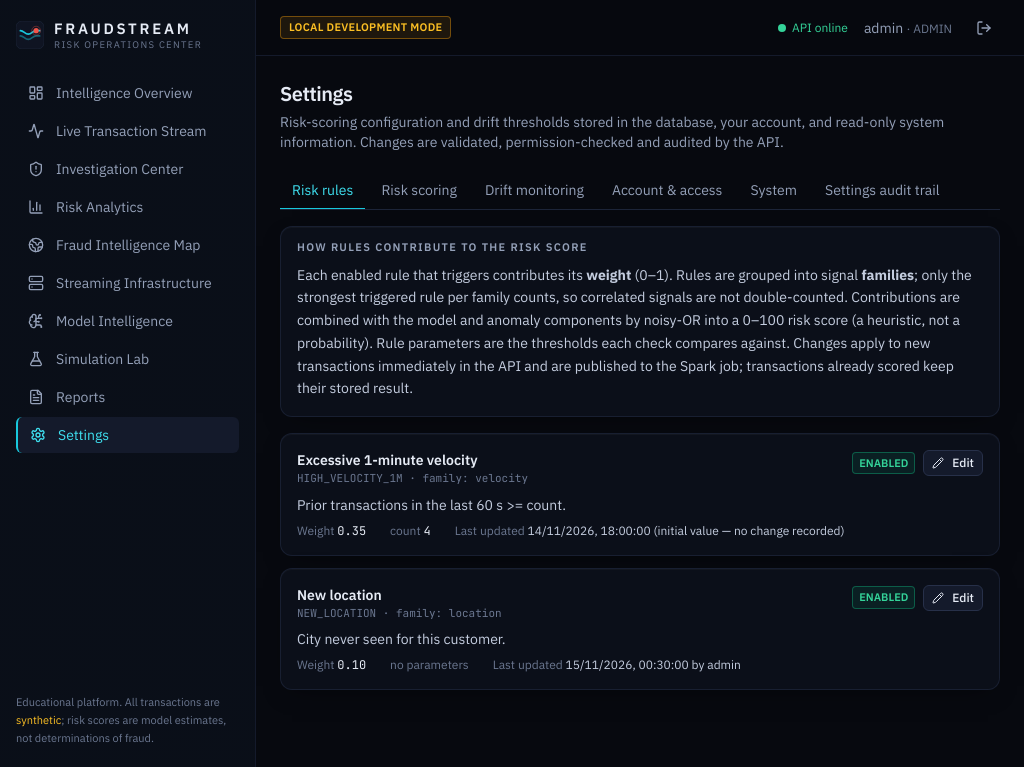
Test: Settings page — admin › cancelling with Escape saves nothing; a stale edit (409) offers a reload
Click the button with test id "rule-edit-HIGH_VELOCITY_1M" at (953, 463), box [923,450,983,476]
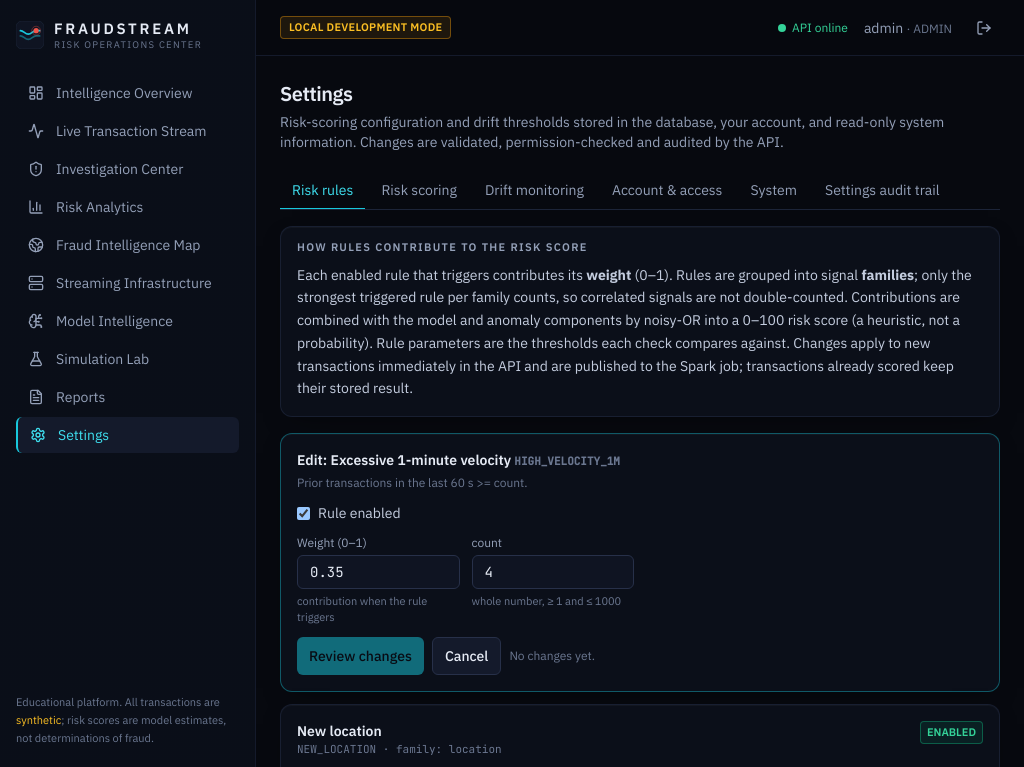
Click the checkbox with test id "rule-enabled" at (304, 513), box [297,506,310,520]
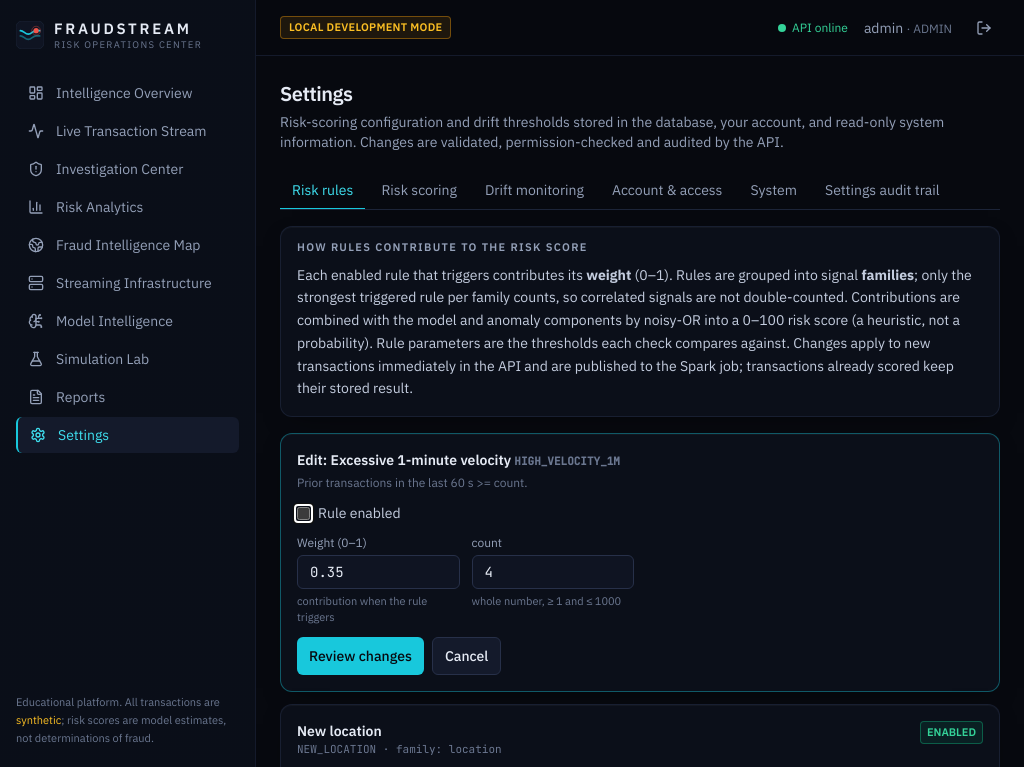
Click the button with test id "rule-review" at (360, 656), box [297,637,424,675]
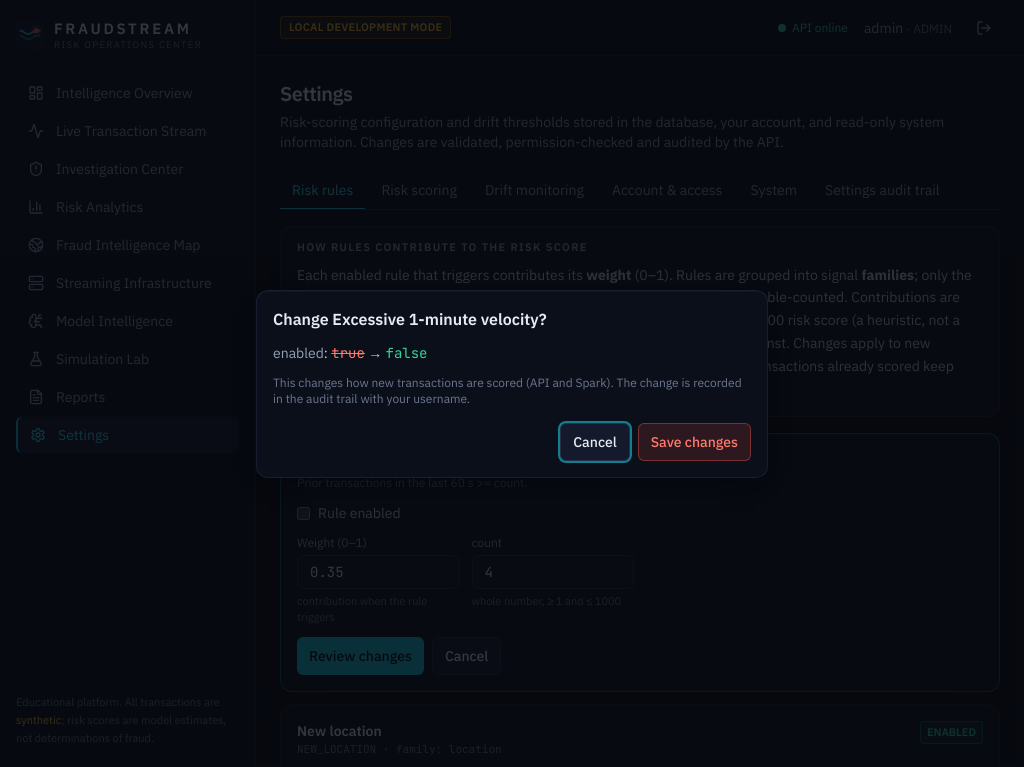
expect the dialog shows "enabled: true → false": met, box [256,290,768,478]
Press Escape
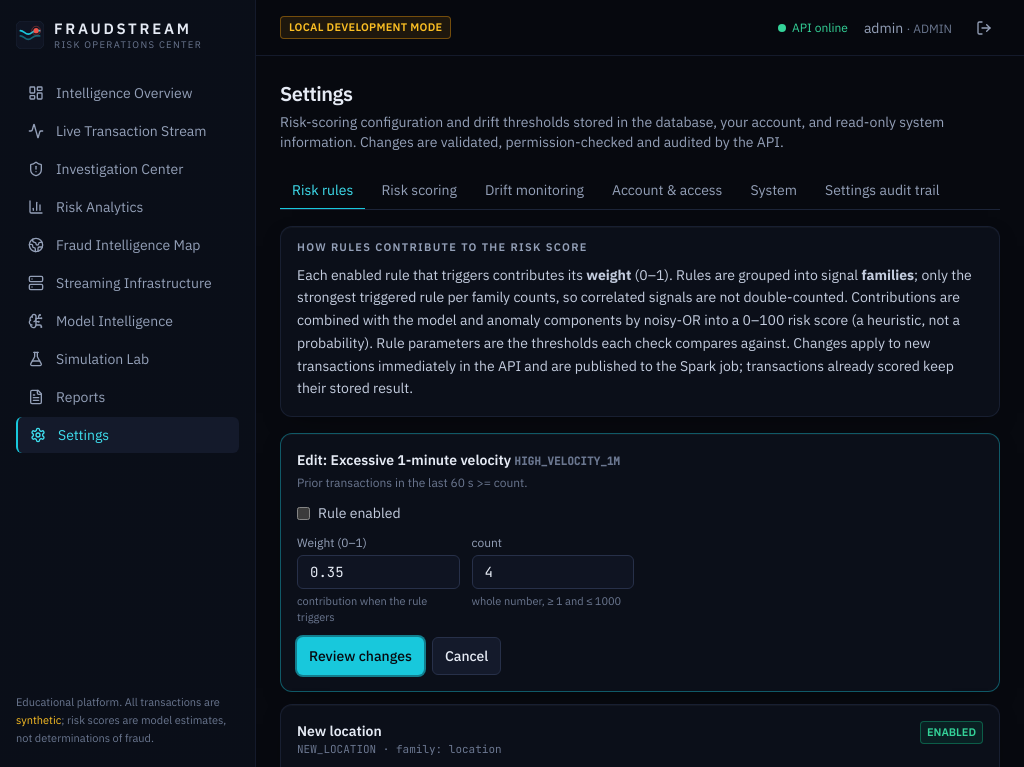
expect the dialog is gone: met
Click the button with test id "rule-review" at (360, 656), box [297,637,424,675]
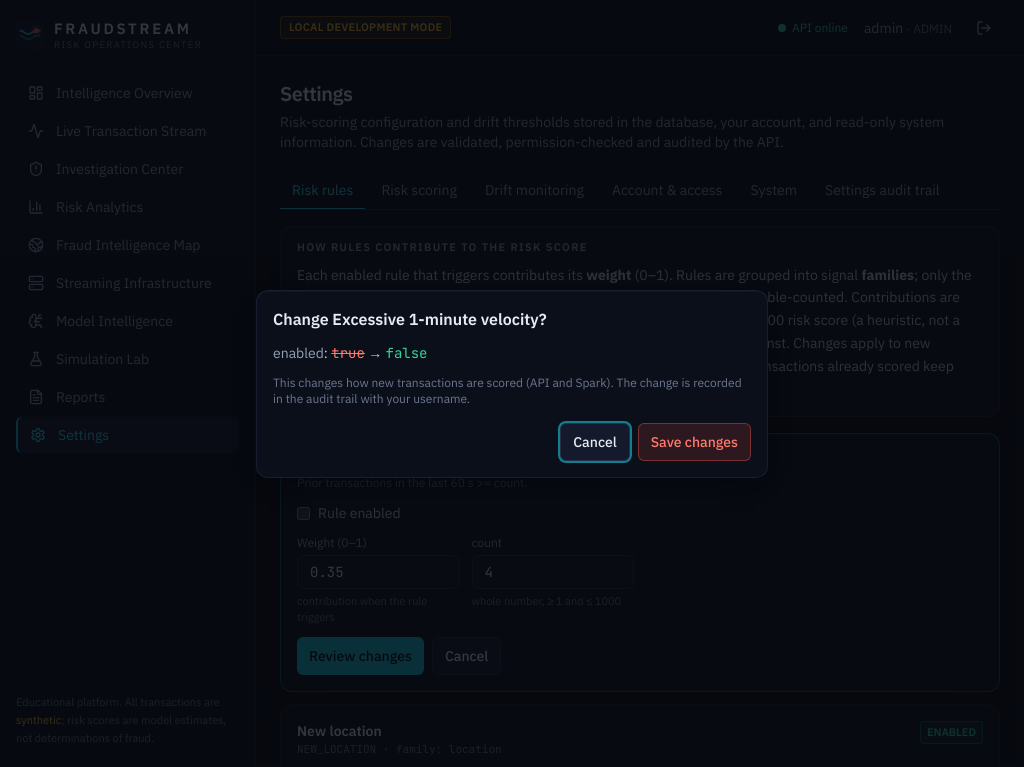
Click the button with test id "confirm-rule-confirm" at (694, 442), box [638,423,751,461]
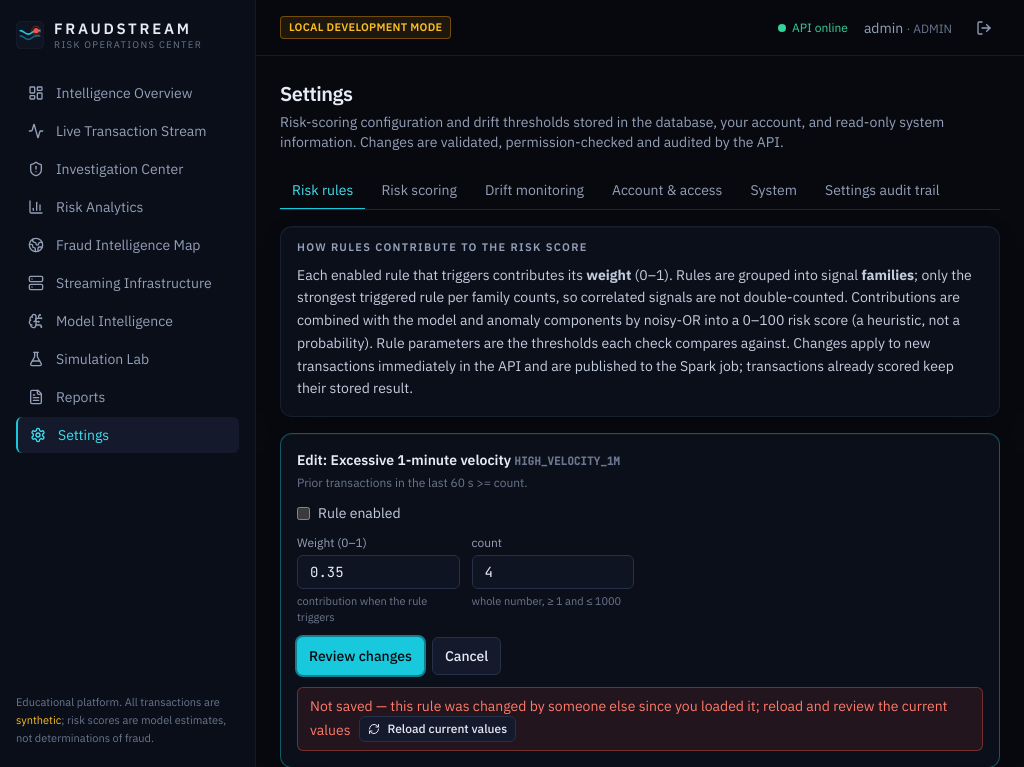
expect the message with test id "save-status" shows "changed by someone else": met, box [310,697,948,739]
expect the button "Reload current values" is shown: met, box [358,716,516,742]
